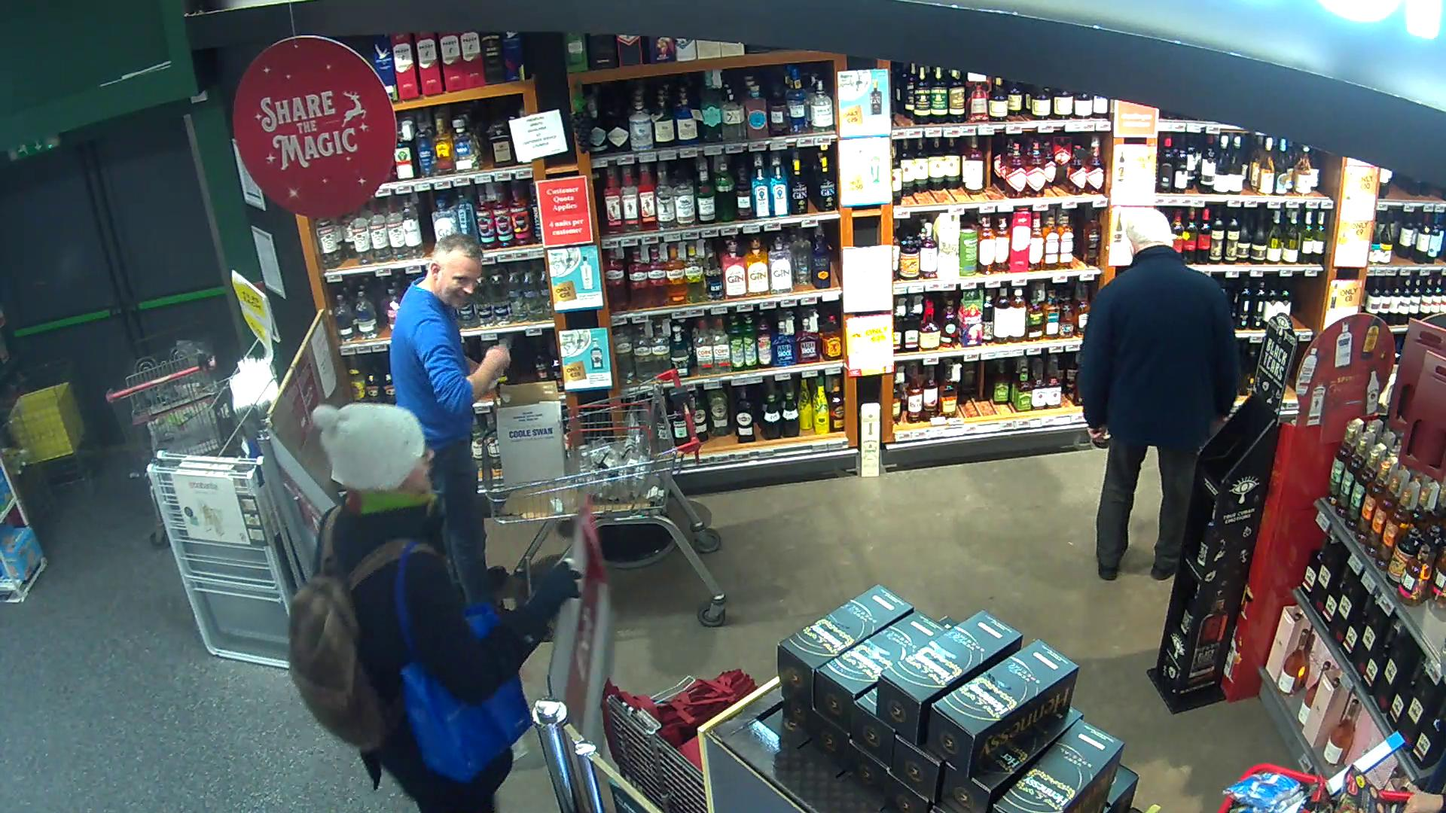backpack-or-handbag: (287, 573, 390, 753)
filled-shopping-bags: (400, 603, 533, 784)
person: (313, 401, 583, 813)
person-with-backpack-handbag-and-shopping-bag-s-: (286, 400, 580, 813)
